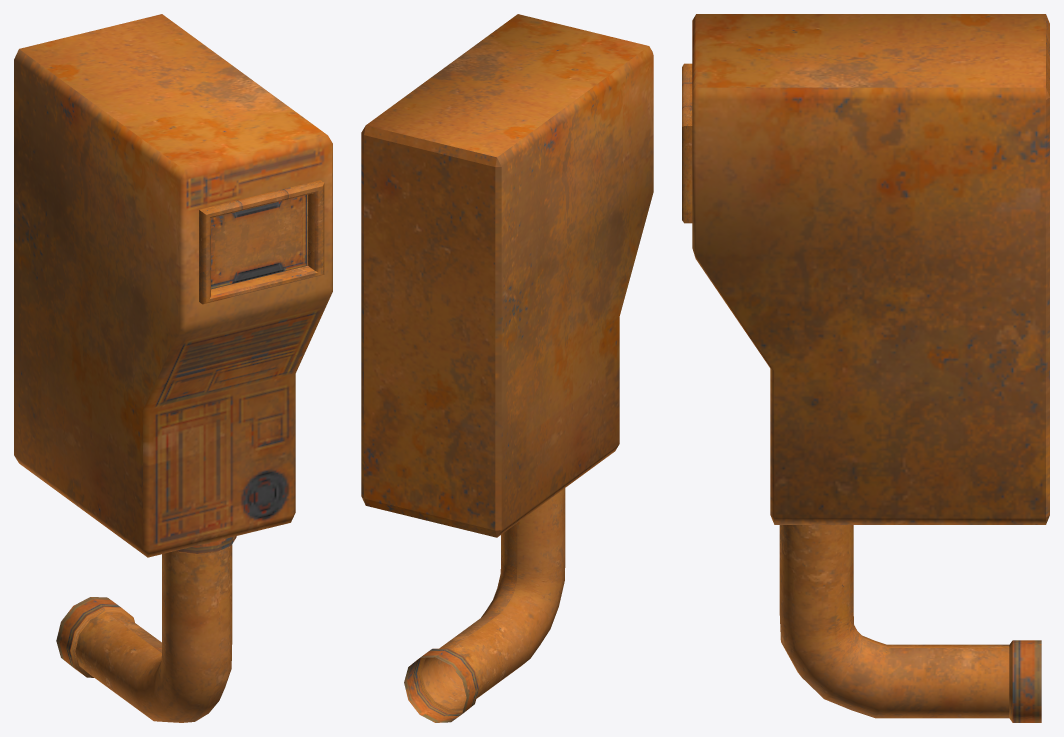
Rendered from 05_01_adon_box_small.DAE.
The picture shows the model from 3 angles, left to right: view 1: azimuth 30°, elevation 25°; view 2: azimuth 150°, elevation 25°; view 3: azimuth 270°, elevation 25°; orthographic projection. The views are drawn at different scales.
Visible parts, largest first — view 1: boxsmall-Pivot; view 2: boxsmall-Pivot; view 3: boxsmall-Pivot.
Boxes of the visible parts, bbox=[...] form: boxsmall-Pivot: bbox=[14, 14, 332, 722]; boxsmall-Pivot: bbox=[361, 14, 653, 722]; boxsmall-Pivot: bbox=[682, 14, 1049, 722].
Size of the model in its own units: 0.2015 by 0.7995 by 0.3982.
